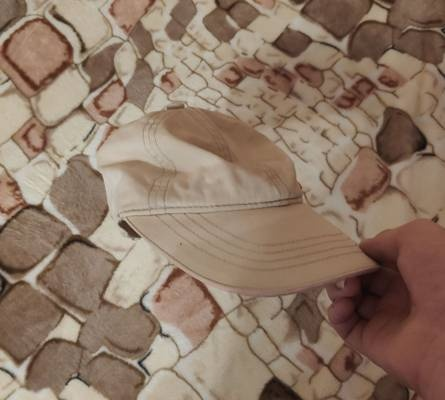Hat: (76, 58, 374, 329)
